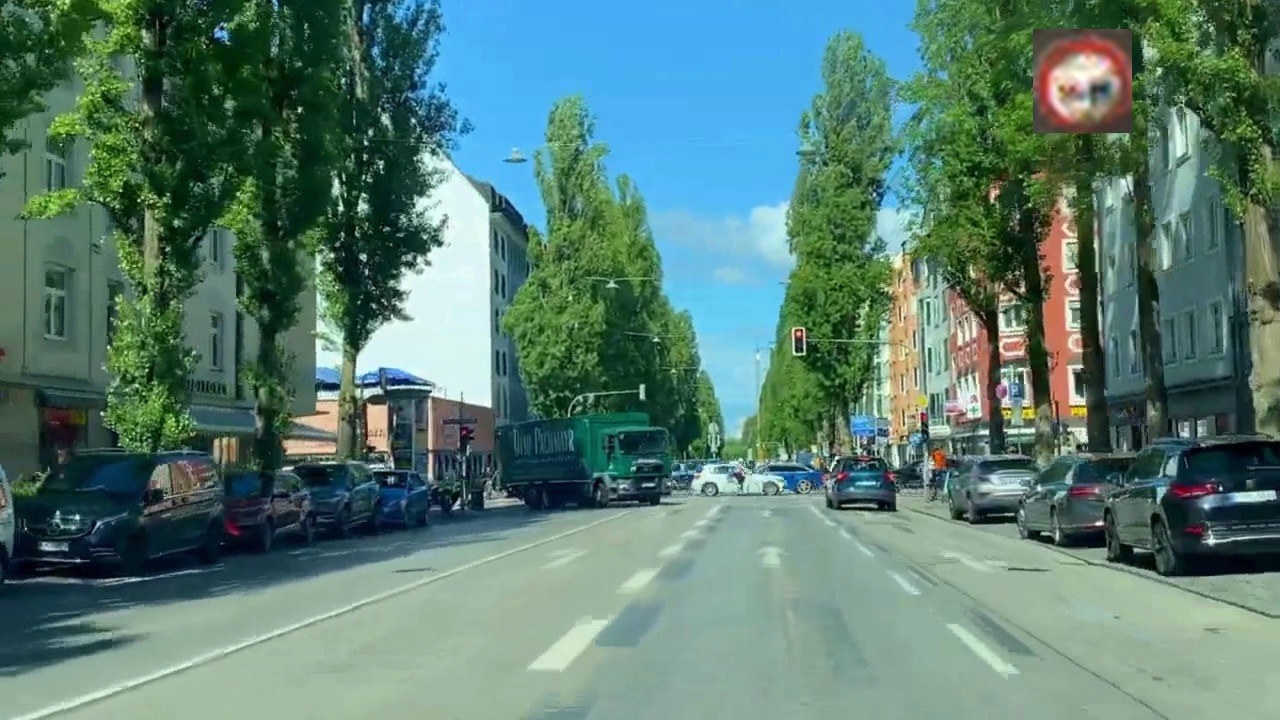No passing: (1033, 29, 1132, 133)
